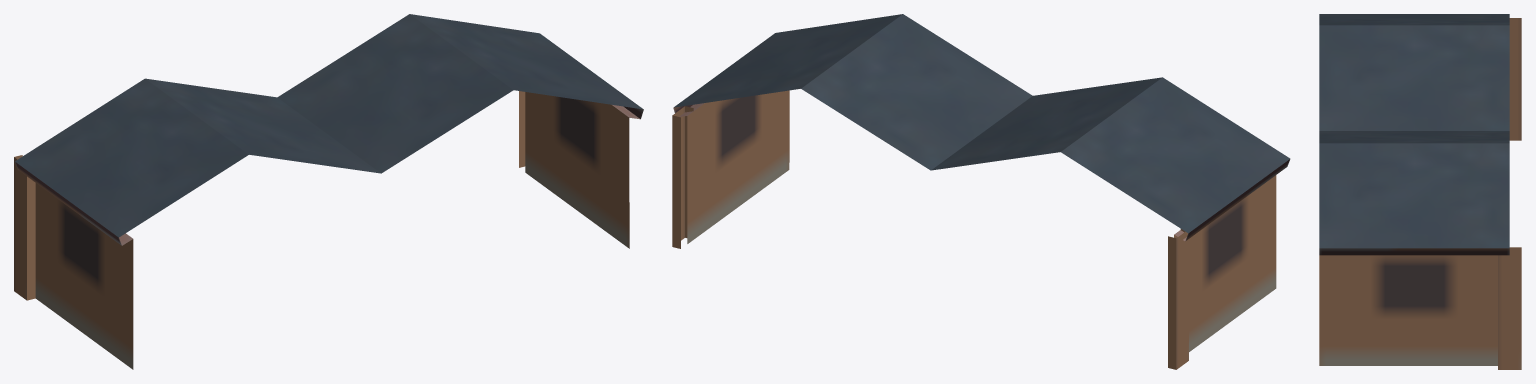
File: Universal_Building_Warehouse_L1_02_Mod.fbx
3 renders of one model, left to right at view 1: azimuth 30°, elevation 25°; view 2: azimuth 150°, elevation 25°; view 3: azimuth 270°, elevation 25°, orthographic. The views are drawn at different scales.
Visible parts, largest first — view 1: Universal_Building_Warehouse_L1_02_Mod; view 2: Universal_Building_Warehouse_L1_02_Mod; view 3: Universal_Building_Warehouse_L1_02_Mod.
Boxes of the visible parts, x1,y1,x2,y2 form: Universal_Building_Warehouse_L1_02_Mod: (14, 14, 643, 369); Universal_Building_Warehouse_L1_02_Mod: (672, 14, 1290, 369); Universal_Building_Warehouse_L1_02_Mod: (1319, 14, 1521, 369).
Size of the model in its own units: 1165 by 396 by 425.
